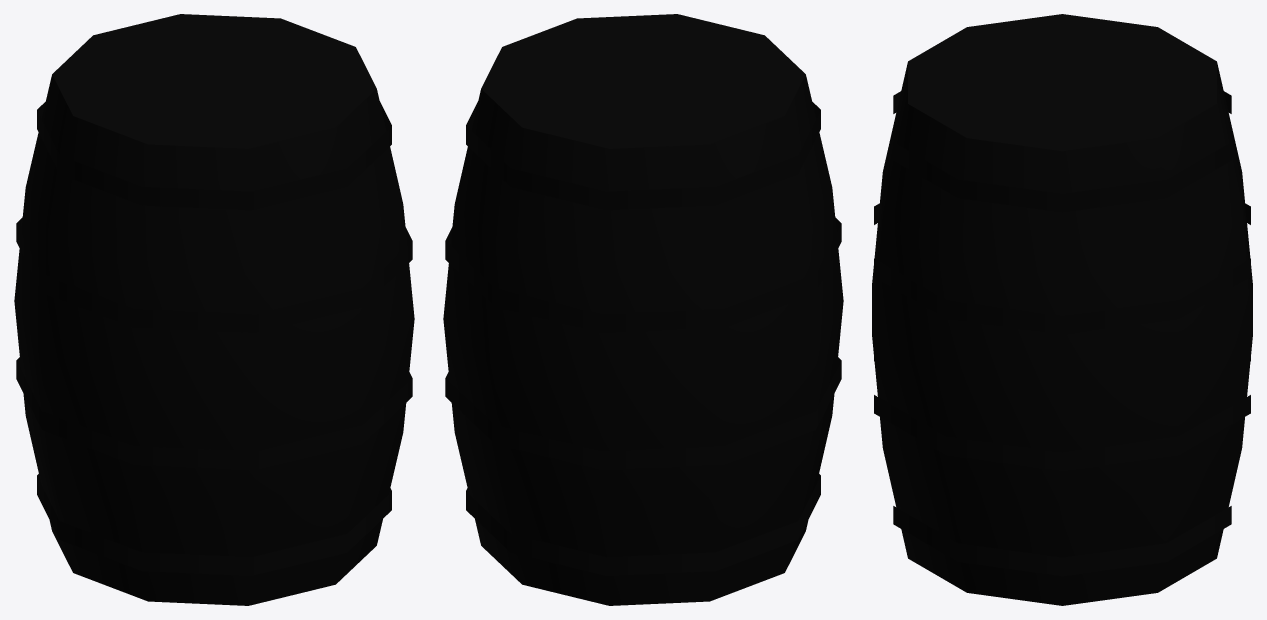
File: SM_barrel.fbx
3 views of the same model, side by side, from view 1: azimuth 30°, elevation 25°; view 2: azimuth 150°, elevation 25°; view 3: azimuth 270°, elevation 25° (orthographic).
Parts seen in each view (by area): view 1: barrel; view 2: barrel; view 3: barrel.
Part boxes in pixels (<box>): barrel: <box>14,14,414,605</box>; barrel: <box>443,14,843,605</box>; barrel: <box>872,14,1252,605</box>.
Bounding box in the file's own units: 0.6784 × 0.85 × 0.6452.
